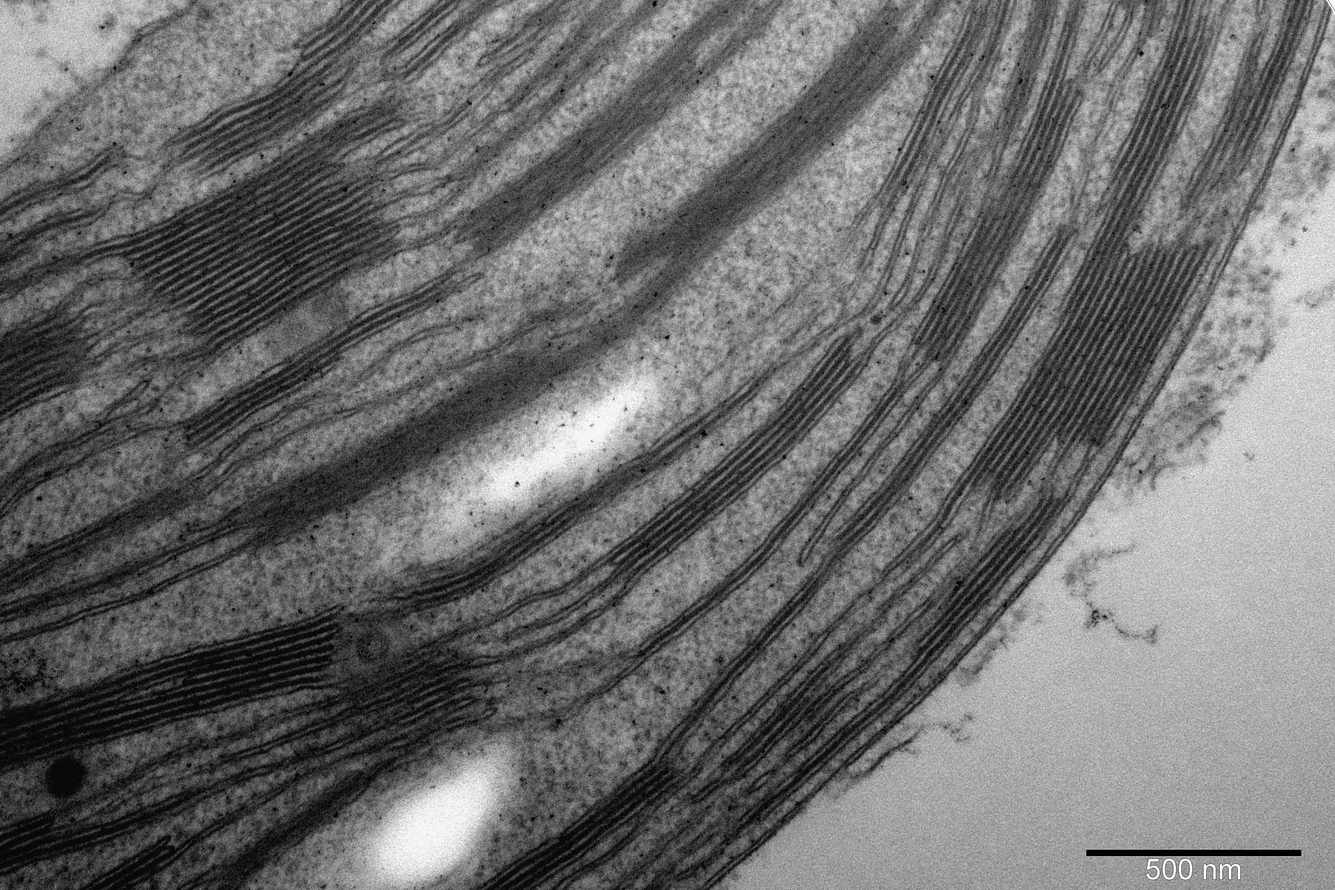granum: (226, 263, 679, 557), (604, 0, 931, 301), (820, 217, 1084, 564), (98, 88, 413, 369), (385, 388, 742, 626), (956, 213, 1222, 510), (594, 328, 875, 598), (449, 33, 724, 260), (165, 267, 468, 459), (903, 71, 1093, 374), (152, 0, 411, 194), (469, 748, 700, 890), (901, 487, 1075, 675), (0, 460, 231, 600), (1172, 0, 1319, 215), (111, 598, 347, 724), (1094, 10, 1231, 226), (868, 0, 997, 218), (328, 625, 500, 778), (172, 764, 379, 888), (713, 651, 861, 786), (0, 289, 105, 426), (0, 669, 129, 779), (982, 0, 1064, 150), (470, 0, 596, 83), (0, 804, 110, 882), (72, 830, 188, 890), (119, 683, 189, 739)
